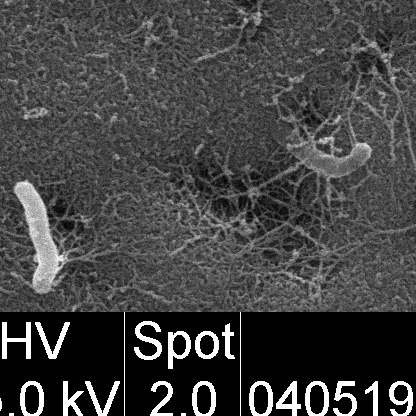cell2surface: (382, 55, 416, 200), (61, 238, 122, 267)
curved: (283, 136, 374, 180)
filament: (13, 182, 58, 289)
regular: (413, 194, 416, 228)
